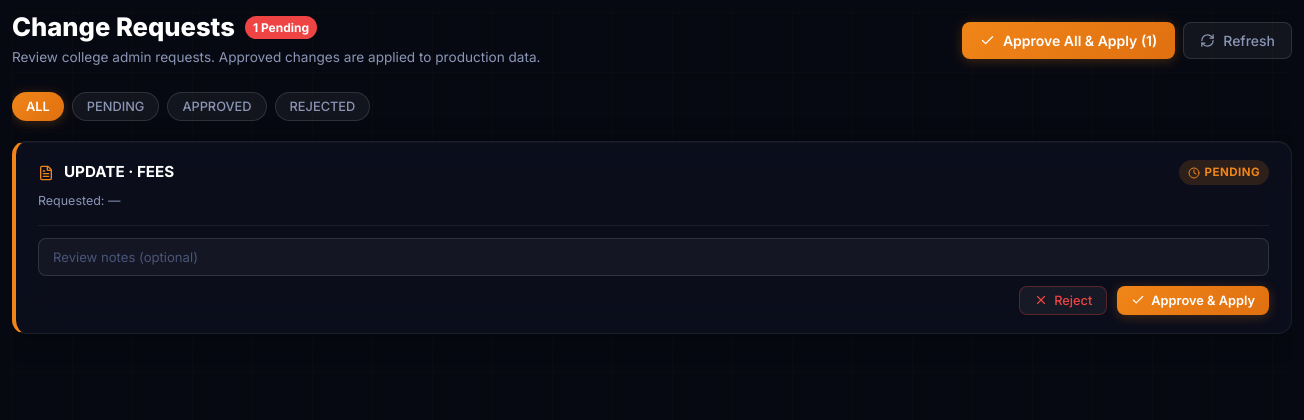
Test case: ChangeRequestsView review controls › surfaces approval API errors and does not refresh as if approval succeeded
Click the button "Approve & Apply": (1193, 300) 1117,286 -> 1269,315
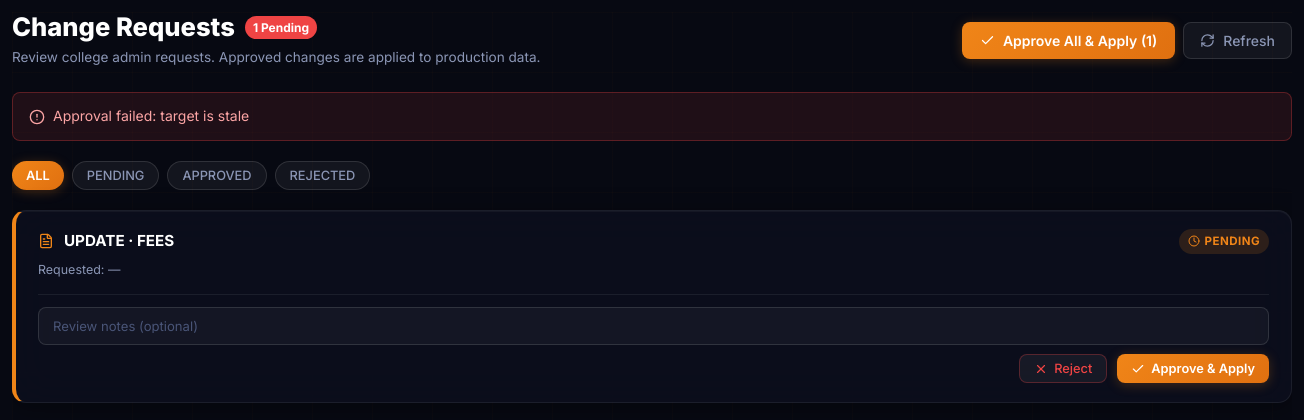
Expected: the button "Approve & Apply" is enabled, 1117,354 -> 1269,383
Now the text "Approval failed: target is stale" is shown, box 53,106 -> 249,128
